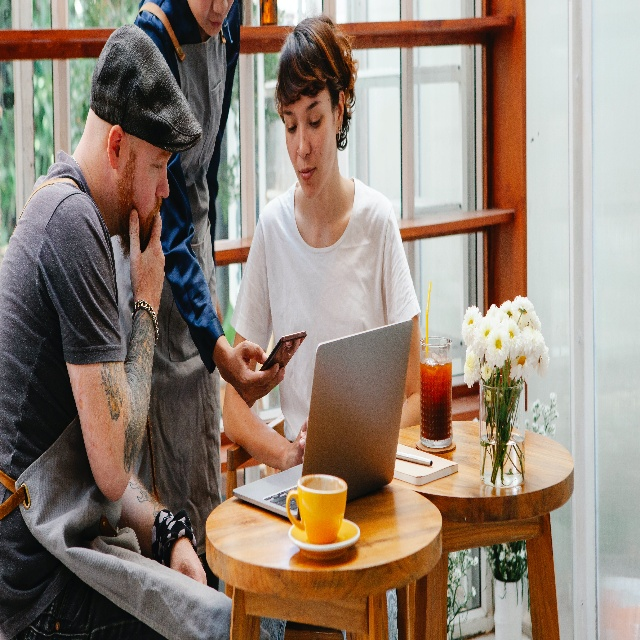Sin_guantes: (129, 208, 165, 316), (229, 340, 285, 409), (170, 536, 207, 584), (283, 419, 309, 470)
